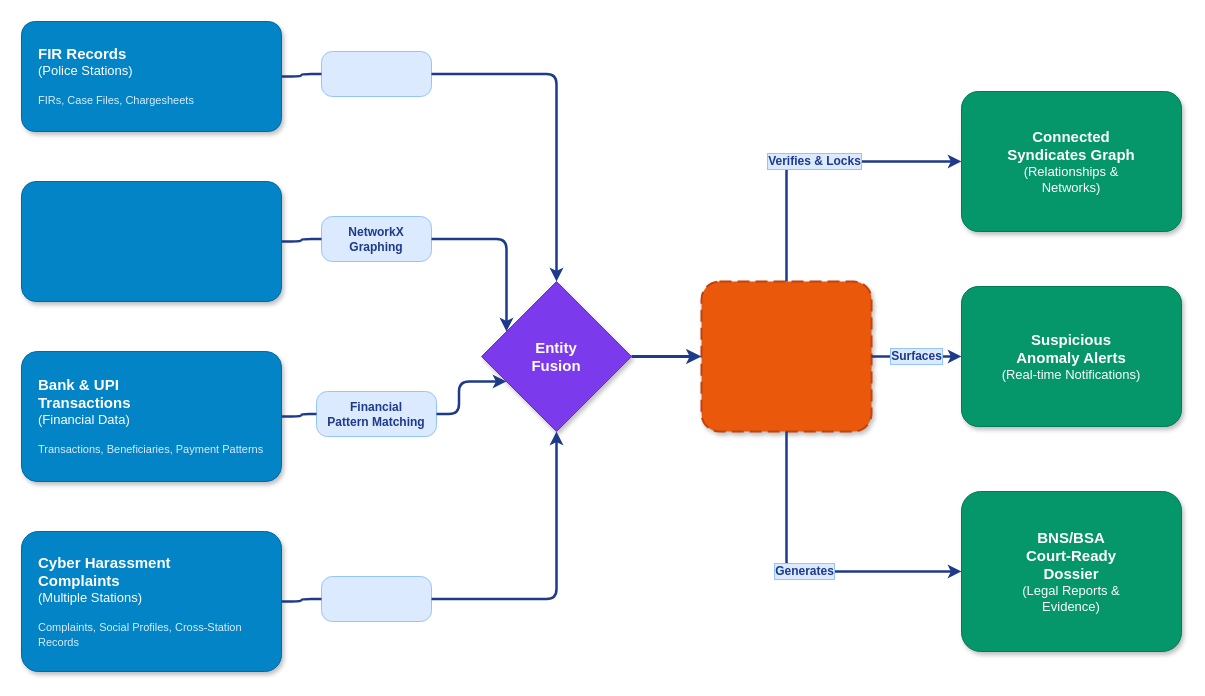
Some shapes in this 1205 by 696 pixel diagram are drawn without their labels. The centre of each missing label's shape, as x and y in pixels:
"Call Detail Records - CDR (Telecom Data) Call logs, Location, Contacts" goes at pixel 152 242.
"Cross-Station Linking" goes at pixel 376 599.
"Human-in-the-Loop Review & Blockchain Hash" goes at pixel 787 357.
"NLP Entity Extraction" goes at pixel 376 73.
